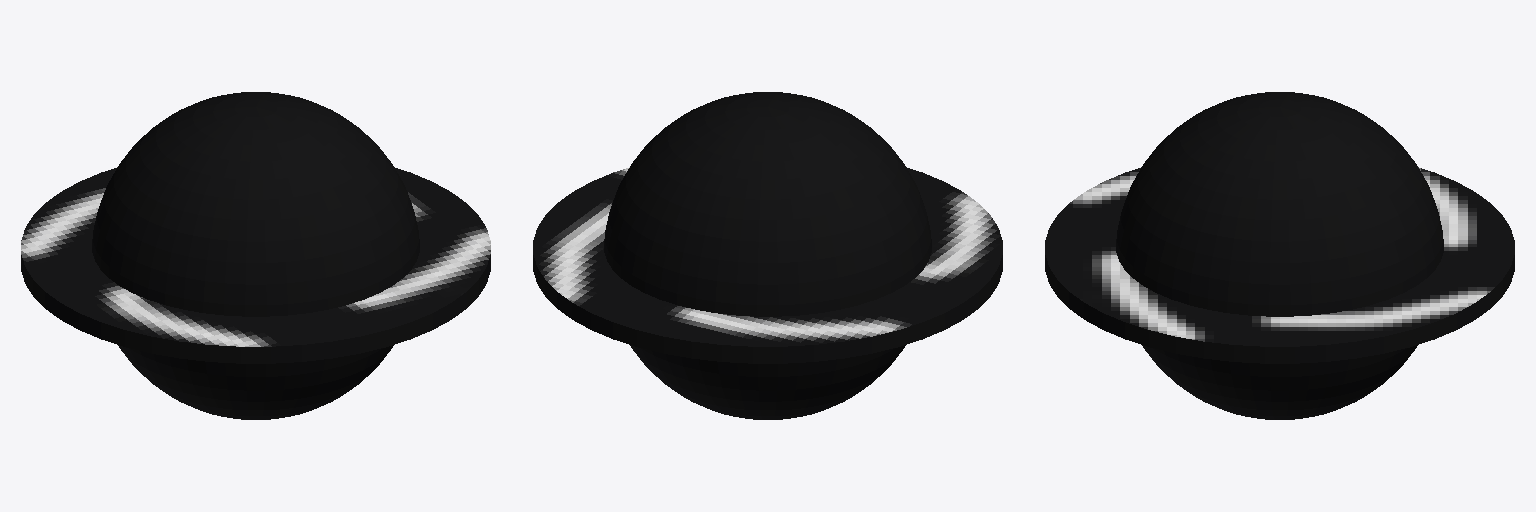
3 views of the same model, side by side, from view 1: azimuth 30°, elevation 25°; view 2: azimuth 150°, elevation 25°; view 3: azimuth 270°, elevation 25° (orthographic).
Parts seen in each view (by area): view 1: sphere, cylinder; view 2: sphere, cylinder; view 3: sphere, cylinder.
Part boxes in pixels (bbox=[...]): sphere: bbox=[92, 92, 419, 419]; cylinder: bbox=[21, 167, 490, 363]; sphere: bbox=[604, 92, 931, 419]; cylinder: bbox=[533, 167, 1002, 363]; sphere: bbox=[1116, 92, 1443, 419]; cylinder: bbox=[1045, 167, 1514, 363].
Size of the model in its own units: 3.12 by 2.19 by 3.12.
2 materials, 2 textured.